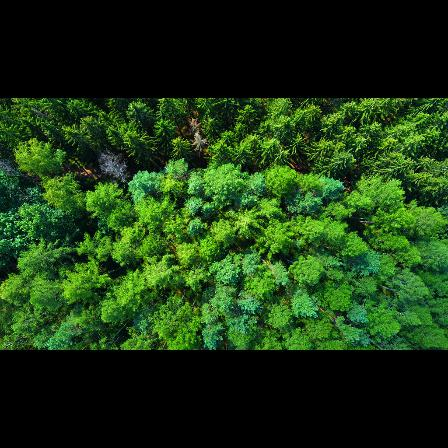Dead: (95, 147, 131, 184), (186, 116, 210, 156)
